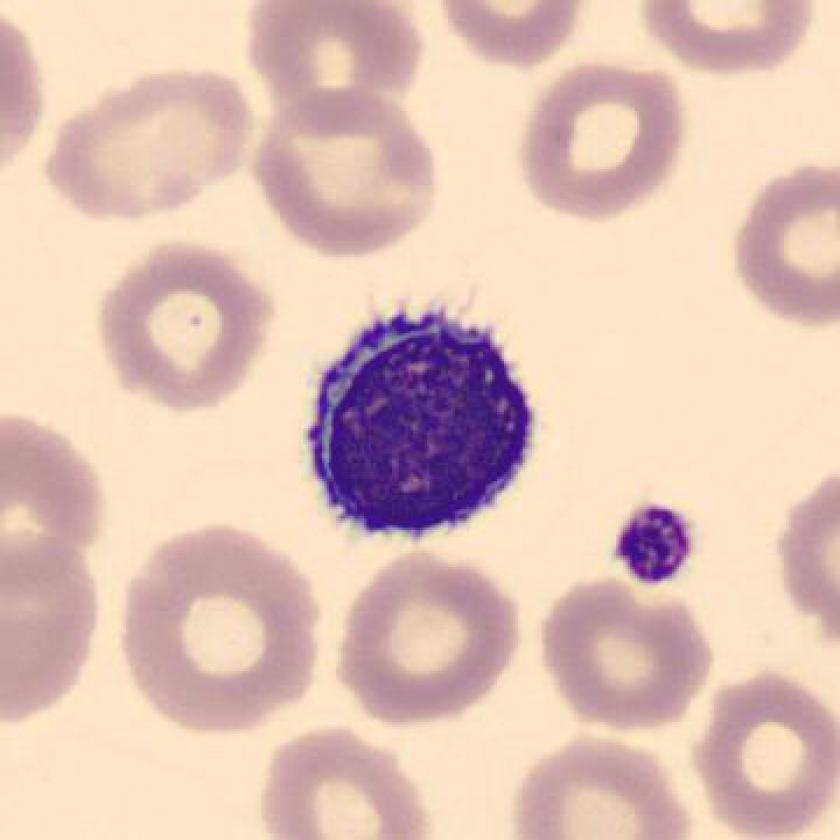lymphocyte: (288, 295, 549, 559)
